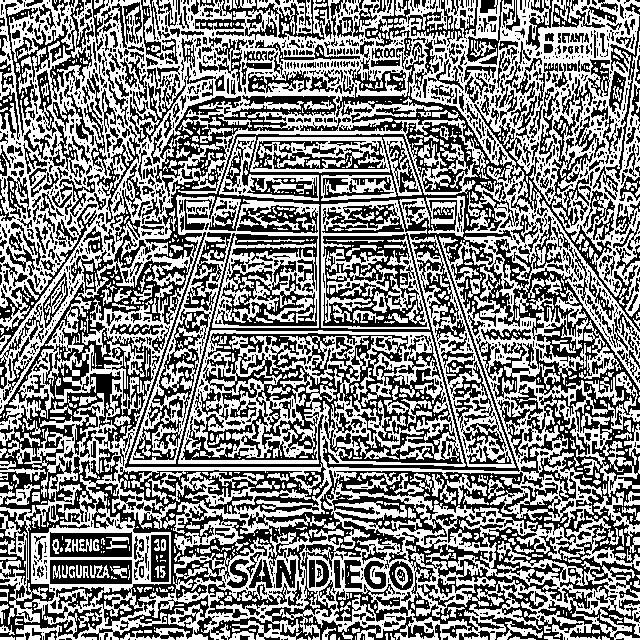left side: (382, 135, 518, 469), (125, 134, 258, 466)
player: (311, 398, 338, 510), (330, 74, 344, 122)
